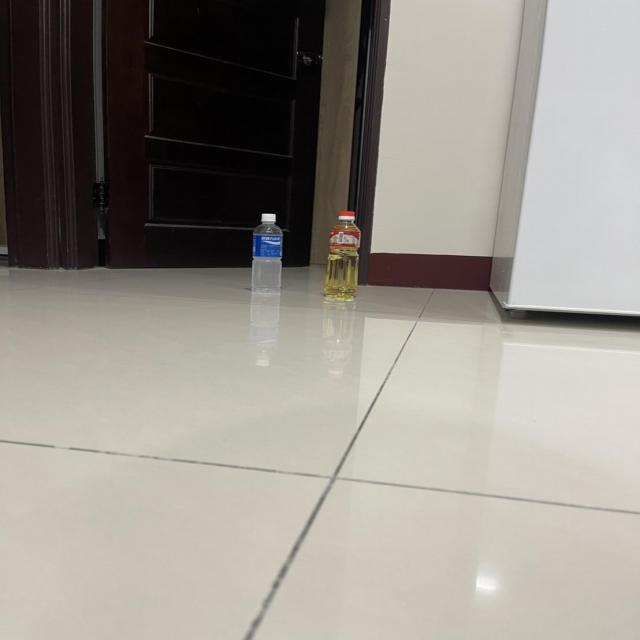bottle: (241, 214, 289, 292)
